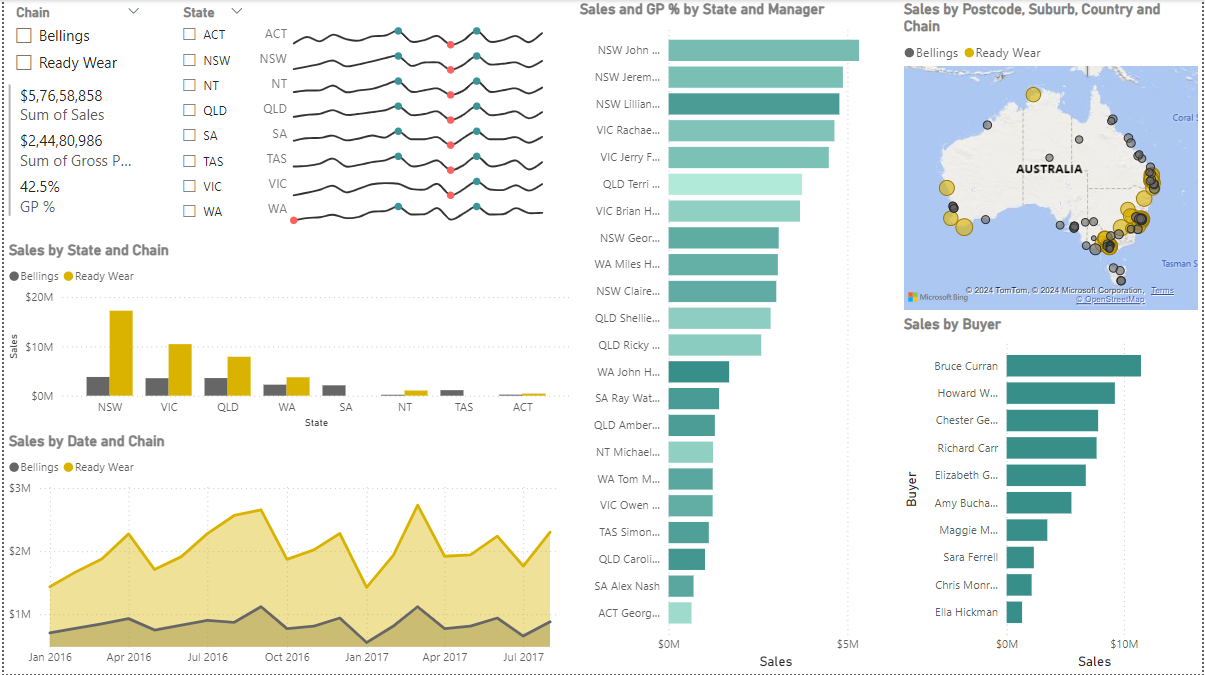

This screenshot's page, from the dashboard's own definition file:
{"tool":"powerbi","page":{"name":"Region","canvas":[1280,720],"ordinal":1},"visuals":[{"type":"clusteredBarChart","fields":{"Y":["Sales.Sales"],"Category":["Buyers.Buyer"]},"box":[956.1,336.5,323.9,383.2],"z":0},{"type":"map","fields":{"Size":["Sales.Sales"],"Series":["Sales.Chain"],"Category":["Regions.Postcode, Suburb, Country"]},"box":[956.1,0,323.9,336.5],"z":1000},{"type":"clusteredBarChart","fields":{"Y":["Sales.Sales"],"Category":["Regions.State","Managers.Manager"]},"box":[609.8,0,346.3,719.8],"z":2000},{"type":"areaChart","title":"Sales by Date and Chain","fields":{"Y":["Sales.Sales"],"Series":["Sales.Chain"],"Category":["Sales.Date"]},"box":[0,461.5,610.4,258.5],"z":3000},{"type":"clusteredColumnChart","fields":{"Y":["Sales.Sales"],"Category":["Regions.State"],"Series":["Sales.Chain"]},"box":[0,257.8,609.8,204.3],"z":4000},{"type":"slicer","fields":{"Values":["Sales.Chain"]},"box":[0,0,157.6,85.6],"z":5000},{"type":"multiRowCard","fields":{"Values":["Sales.Sales","Sales.Gross Profit","Sales.GP %"]},"box":[0,85.6,144.9,172.2],"z":6000},{"type":"slicer","fields":{"Values":["Regions.State"]},"box":[178,0,89.5,250.9],"z":7000},{"type":"PBI_CV_25997FEB_F466_44FA_B562_AC4063283C4C","fields":{"measure":["Sales.Sales"],"axis":["Dates.Date"],"category":["Regions.State"]},"box":[256.8,15.6,340.4,235.4],"z":8000}]}

Visuals, with their boxes in screenshot pixels (x1, y1, x2, y2), scaled from the page's 1280x720 canvas onto the 1205x675 screenshot:
clusteredBarChart - Sales.Sales x Buyers.Buyer: 900:315:1204:674
map - Sales.Sales x Sales.Chain: 900:0:1204:315
clusteredBarChart - Sales.Sales x Regions.State: 574:0:900:674
"Sales by Date and Chain" areaChart: 0:433:575:674
clusteredColumnChart - Sales.Sales x Regions.State: 0:242:574:433
slicer - Sales.Chain: 0:0:148:80
multiRowCard - Sales.Sales x Sales.Gross Profit: 0:80:136:242
slicer - Regions.State: 168:0:252:235
PBI_CV_25997FEB_F466_44FA_B562_AC4063283C4C - Sales.Sales x Dates.Date: 242:15:562:235
